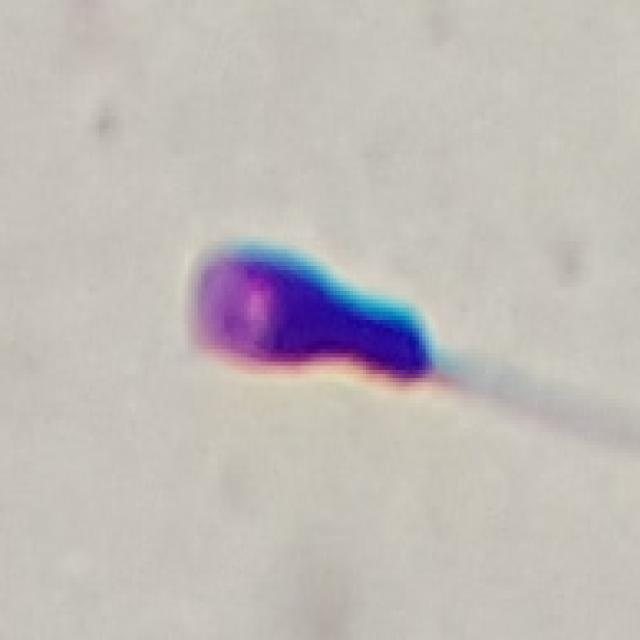abnormal sperm: (185, 241, 589, 415)
